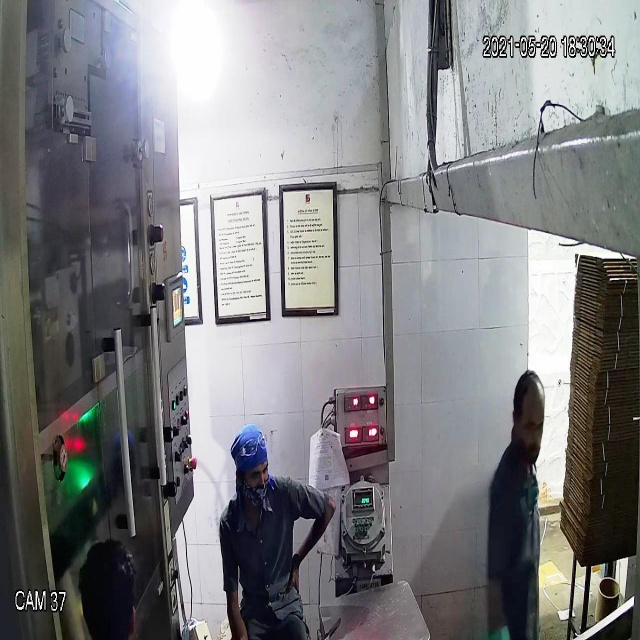Sin_gafas: (235, 460, 271, 486)
